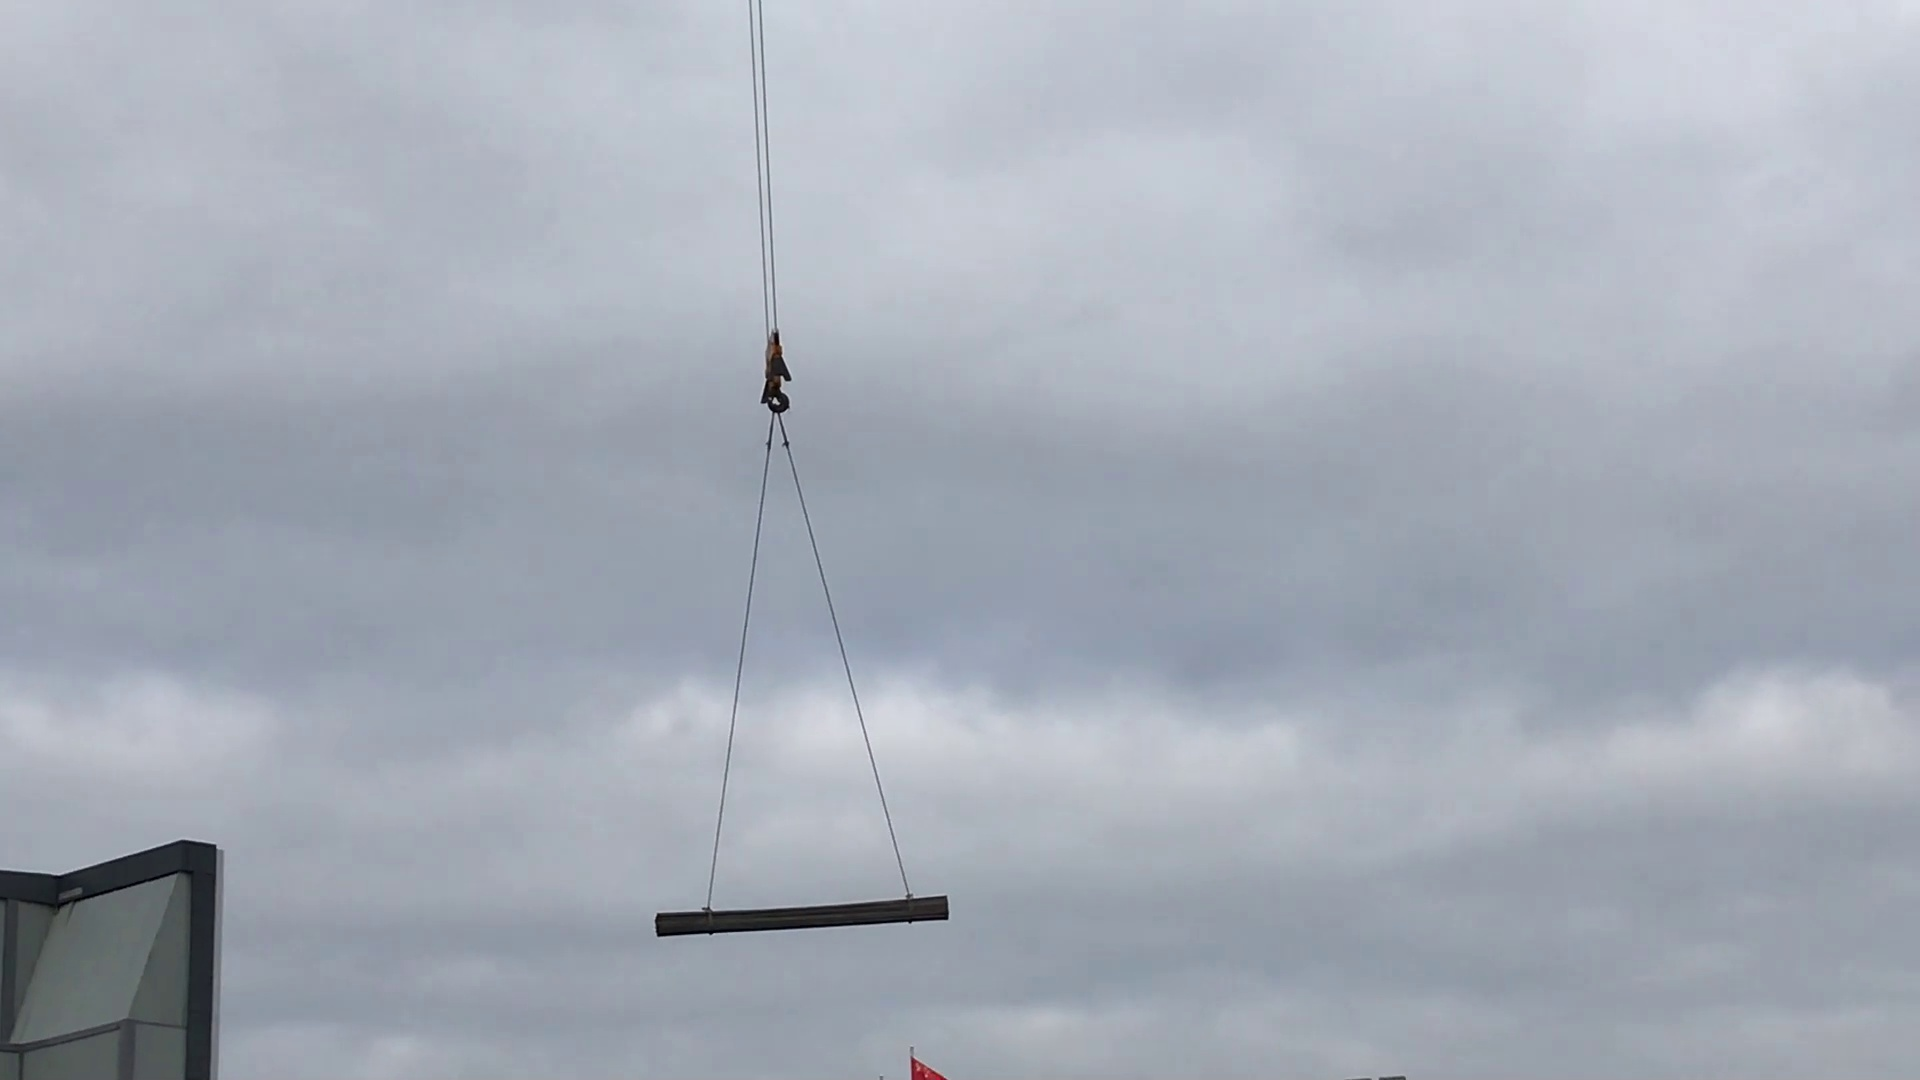hook: (756, 331, 800, 429)
rebar: (646, 886, 963, 957)
